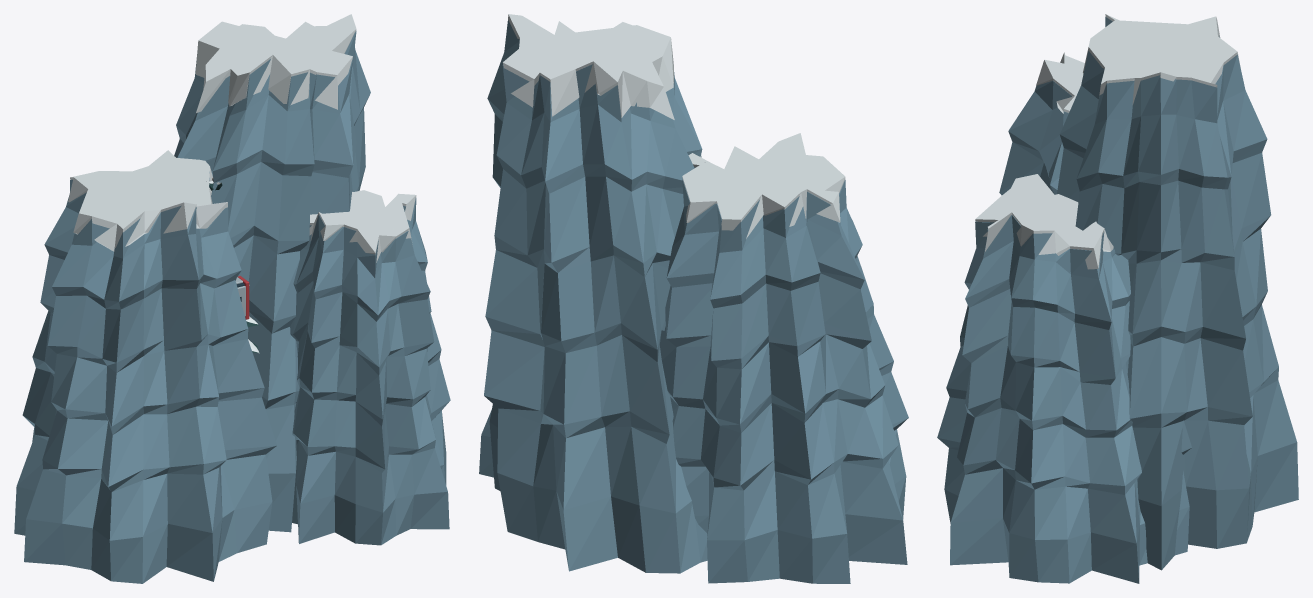
File: kit-v1.glb
The picture shows the model from 3 angles, left to right: view 1: azimuth 30°, elevation 25°; view 2: azimuth 150°, elevation 25°; view 3: azimuth 270°, elevation 25°; orthographic projection. The views are drawn at different scales.
Visible parts, largest first — view 1: glacier-ridge_ice, glacier-ridge_snow; view 2: glacier-ridge_ice, glacier-ridge_snow; view 3: glacier-ridge_ice, glacier-ridge_snow.
Part boxes in pixels (<box>): glacier-ridge_ice: <box>14,30,450,583</box>; glacier-ridge_snow: <box>68,14,416,262</box>; glacier-ridge_ice: <box>479,20,908,583</box>; glacier-ridge_snow: <box>502,14,845,238</box>; glacier-ridge_ice: <box>937,17,1298,583</box>; glacier-ridge_snow: <box>975,14,1240,269</box>.
Size of the model in its own units: 22 by 24 by 16.
